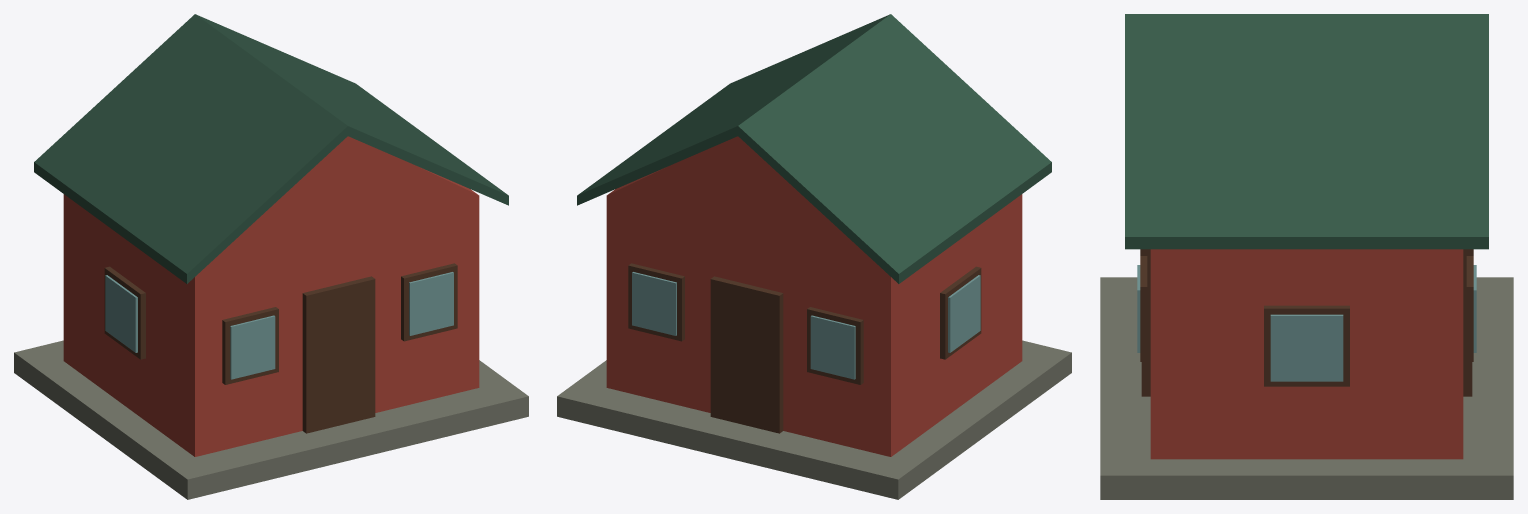
Rendered from Backyard_Shed_Simple.glb.
The picture shows the model from 3 angles, left to right: view 1: azimuth 30°, elevation 25°; view 2: azimuth 150°, elevation 25°; view 3: azimuth 270°, elevation 25°; orthographic projection. The views are drawn at different scales.
Parts seen in each view (by area): view 1: Backyard_Shed_Simple; view 2: Backyard_Shed_Simple; view 3: Backyard_Shed_Simple.
Part boxes in pixels (x1,y1,x2,y2): Backyard_Shed_Simple: (14,14,528,499); Backyard_Shed_Simple: (557,14,1071,499); Backyard_Shed_Simple: (1100,14,1513,499).
Size of the model in its own units: 4.2 by 3.82 by 3.7.
